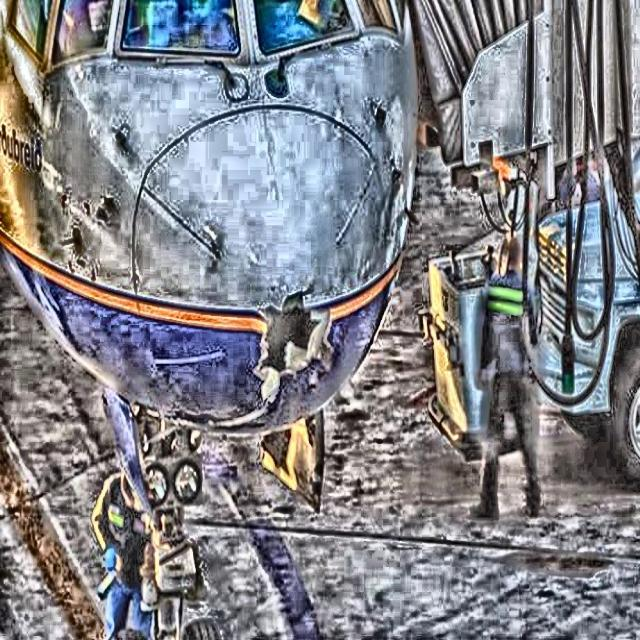crack: (252, 284, 336, 397), (90, 189, 132, 232), (355, 94, 395, 139), (69, 222, 99, 264), (114, 122, 137, 160)
